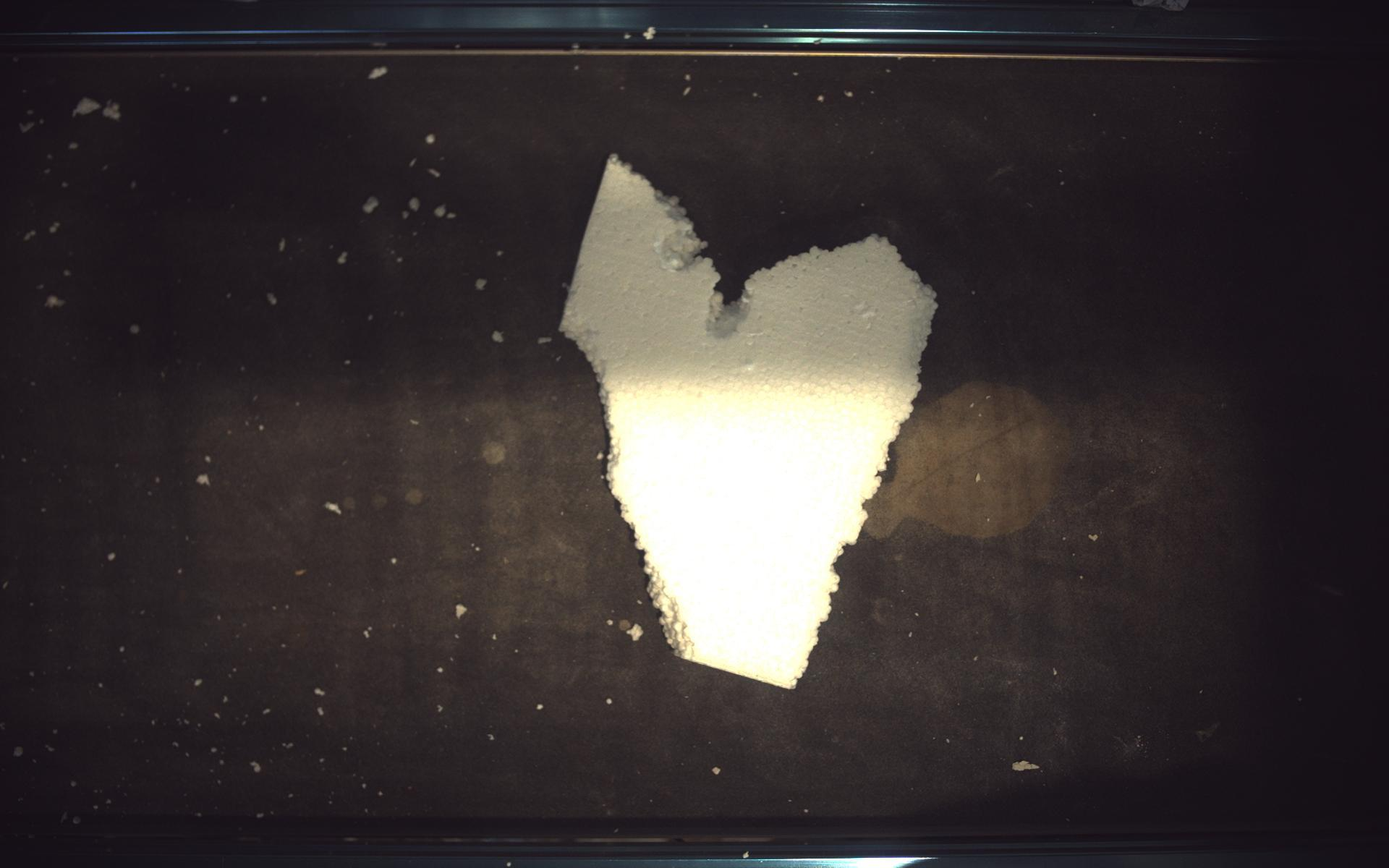foam: (562, 156, 938, 689)
